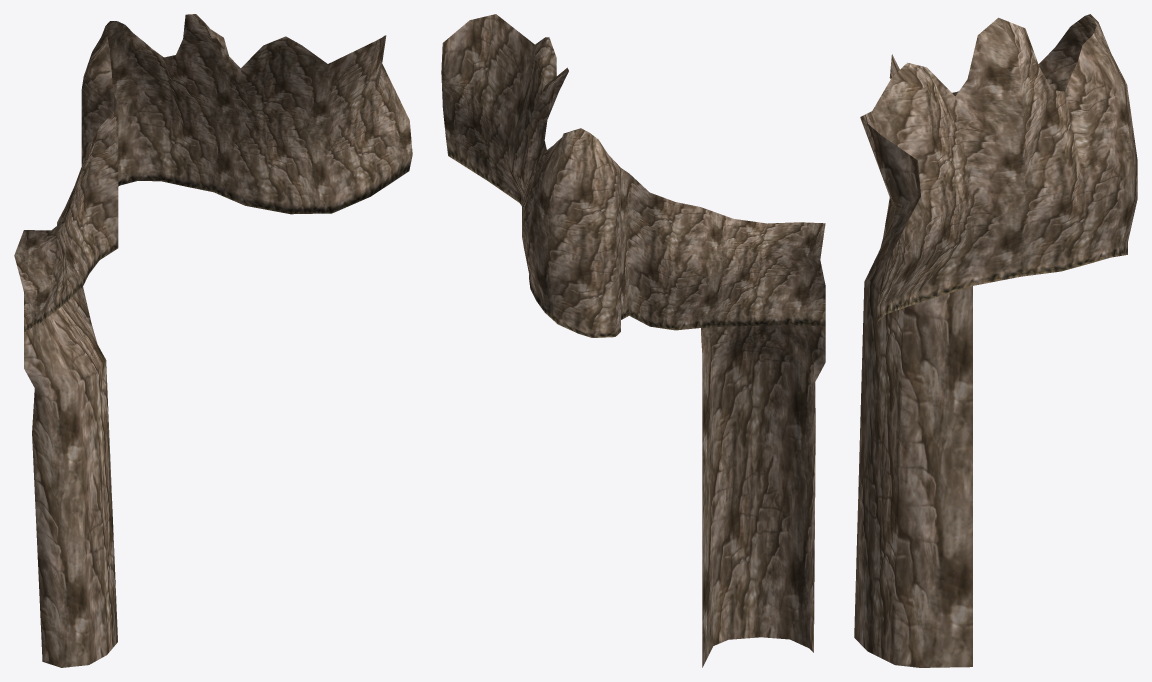
File: OVERHILL_A_01_WALL11.fbx
3 renders of one model, left to right at view 1: azimuth 30°, elevation 25°; view 2: azimuth 150°, elevation 25°; view 3: azimuth 270°, elevation 25°, orthographic. The views are drawn at different scales.
Parts seen in each view (by area): view 1: OVERHILL_A_01_WALL11; view 2: OVERHILL_A_01_WALL11; view 3: OVERHILL_A_01_WALL11.
Boxes of the visible parts, x1,y1,x2,y2 form: OVERHILL_A_01_WALL11: (14,14,412,667); OVERHILL_A_01_WALL11: (441,14,825,667); OVERHILL_A_01_WALL11: (854,14,1137,667).
Bounding box in the file's own units: 211013 × 300049 × 106182.
2 materials, 2 textured.
